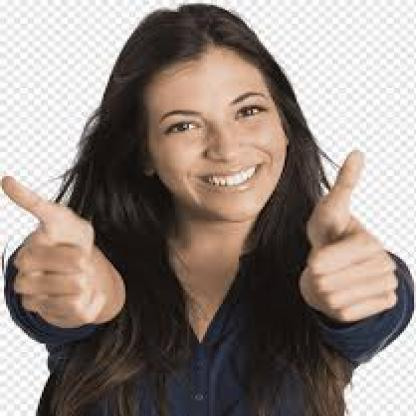thumb_up: (0, 167, 111, 330), (297, 148, 401, 321)
